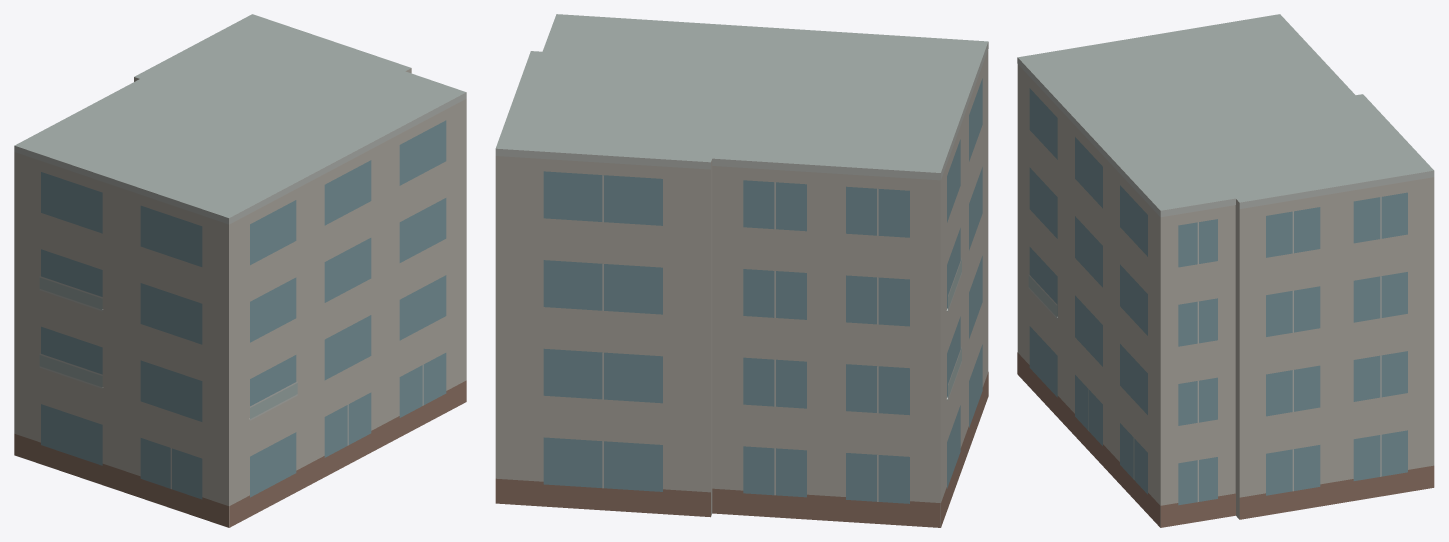
File: survey-upis-32854677.glb
3 views of the same model, side by side, from view 1: azimuth 30°, elevation 25°; view 2: azimuth 150°, elevation 25°; view 3: azimuth 270°, elevation 25° (orthographic). The views are drawn at different scales.
Visible parts, largest first — view 1: survey-upis-32854677.tmp; view 2: survey-upis-32854677.tmp; view 3: survey-upis-32854677.tmp.
Boxes of the visible parts, x1,y1,x2,y2 form: survey-upis-32854677.tmp: (14,14,466,527); survey-upis-32854677.tmp: (495,14,988,527); survey-upis-32854677.tmp: (1017,14,1434,527).
Bounding box in the file's own units: 15.85 × 11.9 × 14.18.
